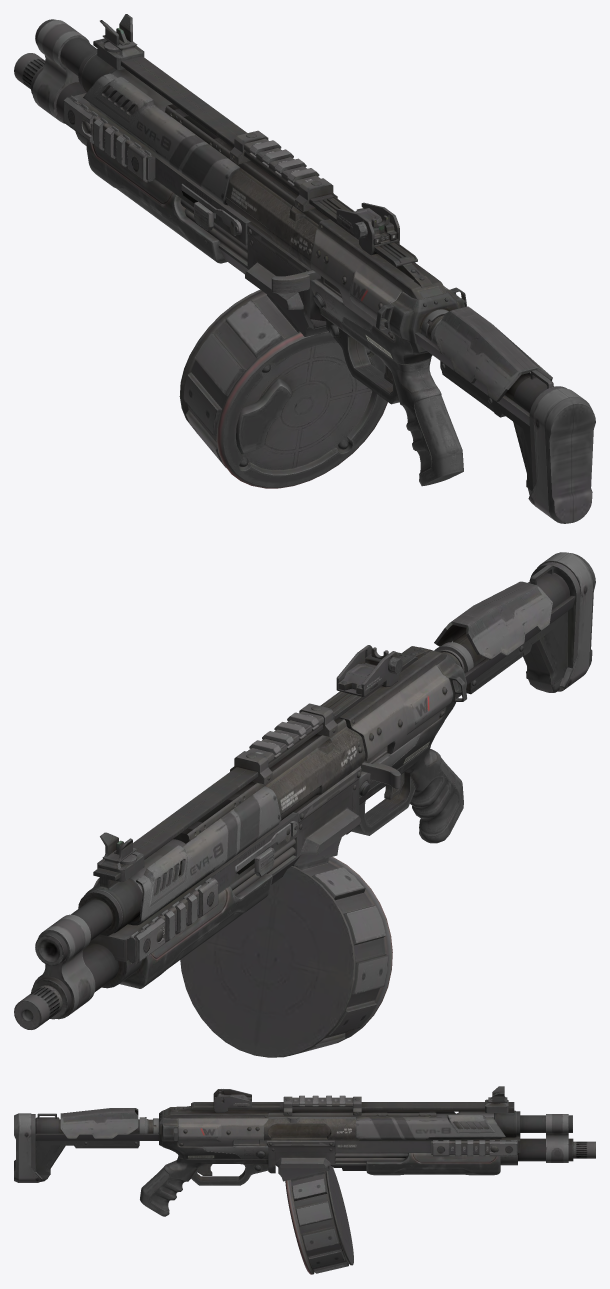
Rendered from apex_eva8.glb.
3 views of the same model, one above another, from view 1: azimuth 30°, elevation 25°; view 2: azimuth 150°, elevation 25°; view 3: azimuth 270°, elevation 25° (orthographic). The views are drawn at different scales.
Visible parts, largest first — view 1: body__tex_apex_eva8_1, mag__tex_apex_eva8_2, irons__tex_apex_eva8_3, cycle__tex_apex_eva8_m0; view 2: body__tex_apex_eva8_1, mag__tex_apex_eva8_2, irons__tex_apex_eva8_3, cycle__tex_apex_eva8_m0; view 3: body__tex_apex_eva8_1, mag__tex_apex_eva8_2, irons__tex_apex_eva8_3.
Boxes of the visible parts, x1,y1,x2,y2 form: body__tex_apex_eva8_1: (14, 19, 595, 523); mag__tex_apex_eva8_2: (179, 289, 387, 488); irons__tex_apex_eva8_3: (97, 14, 399, 255); cycle__tex_apex_eva8_m0: (271, 270, 341, 297); body__tex_apex_eva8_1: (14, 552, 595, 1029); mag__tex_apex_eva8_2: (180, 857, 392, 1057); irons__tex_apex_eva8_3: (97, 645, 402, 881); cycle__tex_apex_eva8_m0: (361, 746, 400, 788); body__tex_apex_eva8_1: (14, 1095, 595, 1216); mag__tex_apex_eva8_2: (285, 1165, 353, 1274); irons__tex_apex_eva8_3: (213, 1086, 508, 1112).
Size of the model in its own units: 0.166 by 0.3086 by 0.9047.
Materials: 1 (1 with a texture image).
